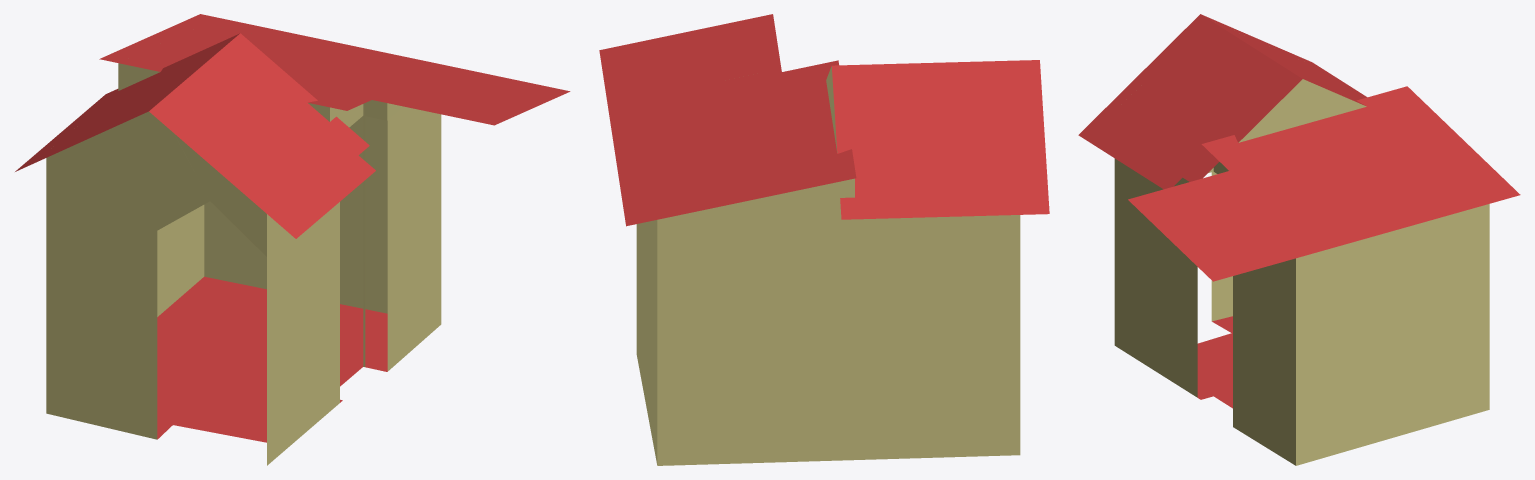
The picture shows the model from 3 angles, left to right: view 1: azimuth 30°, elevation 25°; view 2: azimuth 150°, elevation 25°; view 3: azimuth 270°, elevation 25°; orthographic projection. The views are drawn at different scales.
Bounding box in the file's own units: 22.43 × 19.18 × 14.39.
